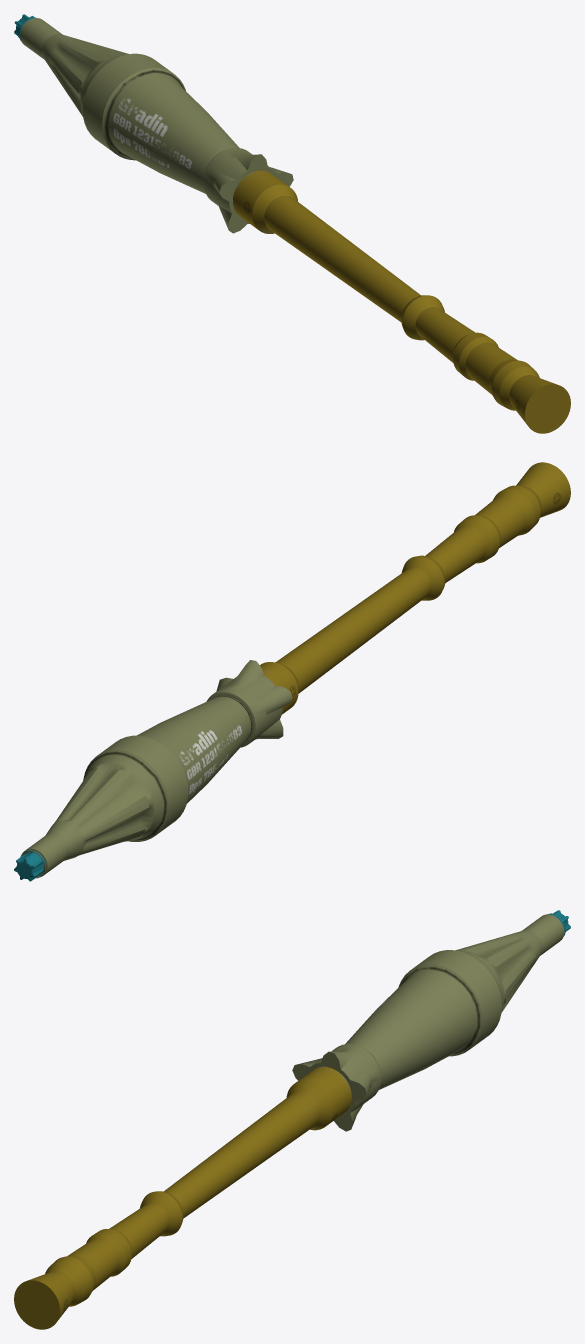
The model's file is BigRocket.fbx.
3 views of the same model, one above another, from view 1: azimuth 30°, elevation 25°; view 2: azimuth 150°, elevation 25°; view 3: azimuth 330°, elevation 25° (orthographic).
Parts seen in each view (by area): view 1: pCylinder8; view 2: pCylinder8; view 3: pCylinder8.
Boxes of the visible parts, x1=… form: pCylinder8: x1=14, y1=14, x2=570, y2=433; pCylinder8: x1=14, y1=462, x2=570, y2=881; pCylinder8: x1=14, y1=910, x2=570, y2=1329.
Bounding box in the file's own units: 37.01 × 37.01 × 391.
